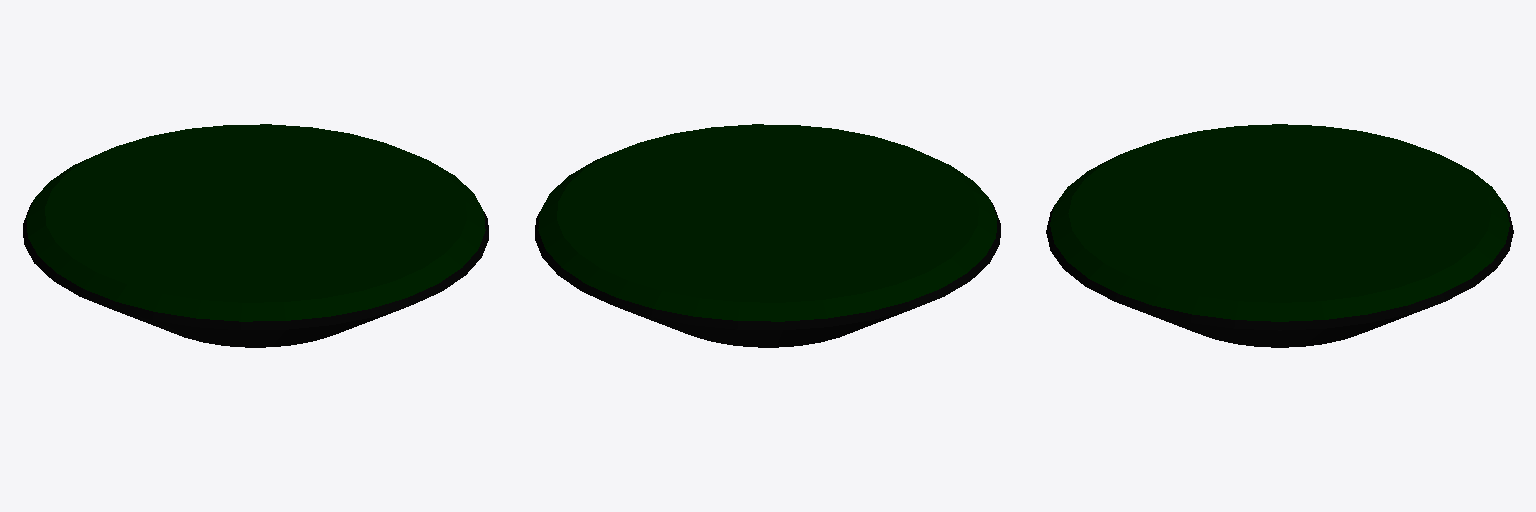
The model's file is ground.obj.
3 views of the same model, side by side, from view 1: azimuth 30°, elevation 25°; view 2: azimuth 150°, elevation 25°; view 3: azimuth 270°, elevation 25° (orthographic).
Visible parts, largest first — view 1: ground; view 2: ground; view 3: ground.
Part boxes in pixels (left/top/right/bottom): ground: left=23, top=124, right=488, bottom=347; ground: left=535, top=124, right=1000, bottom=347; ground: left=1046, top=124, right=1513, bottom=347.
Bounding box in the file's own units: 10 × 2 × 10.